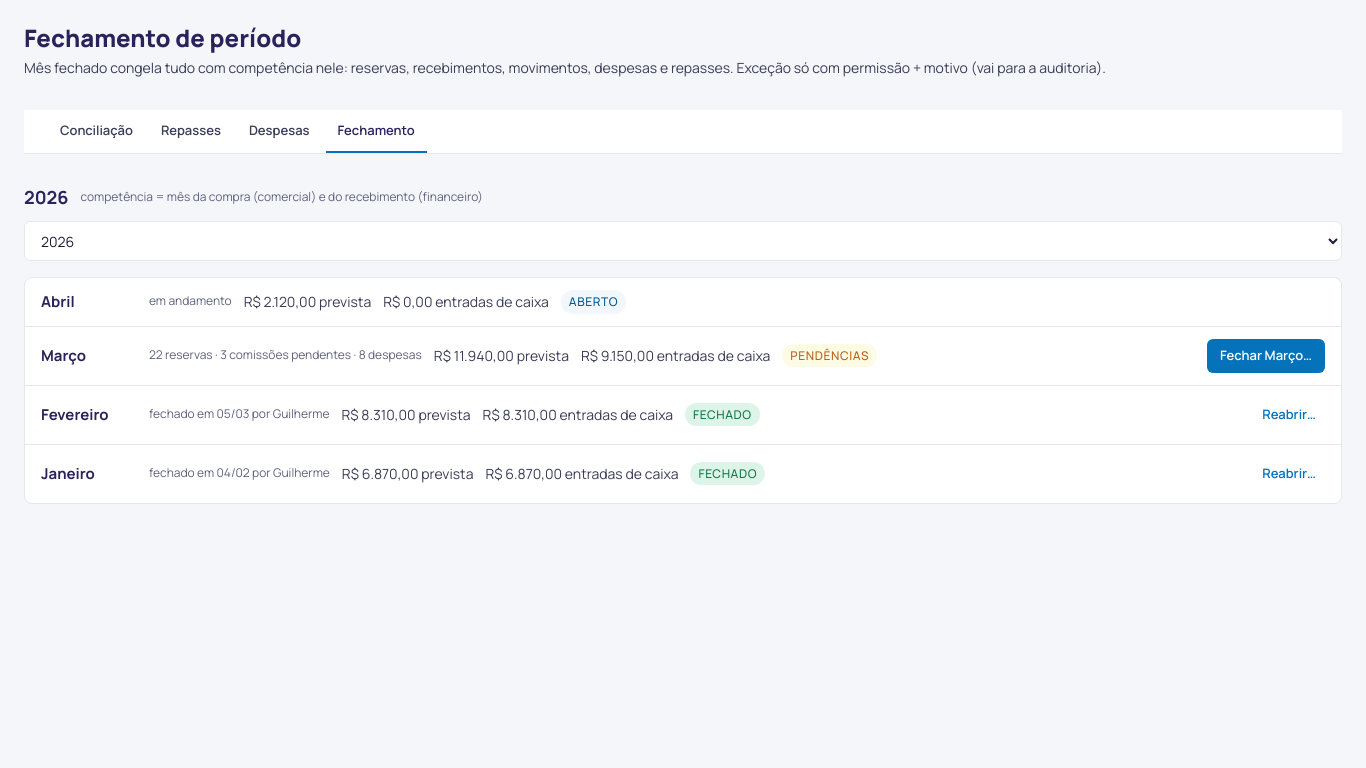
Test case: mês com pendências mostra o badge e abre o modal de fechar com as pendentes carregadas
The width and height of the screenshot is (1366, 768).
Check: the text "Março" is shown, box [41,345,86,366]
Check: the text "Pendências" is shown, box [782,344,877,368]
Click the button "Fechar Março…" at (1266, 356), box [1207,339,1325,373]
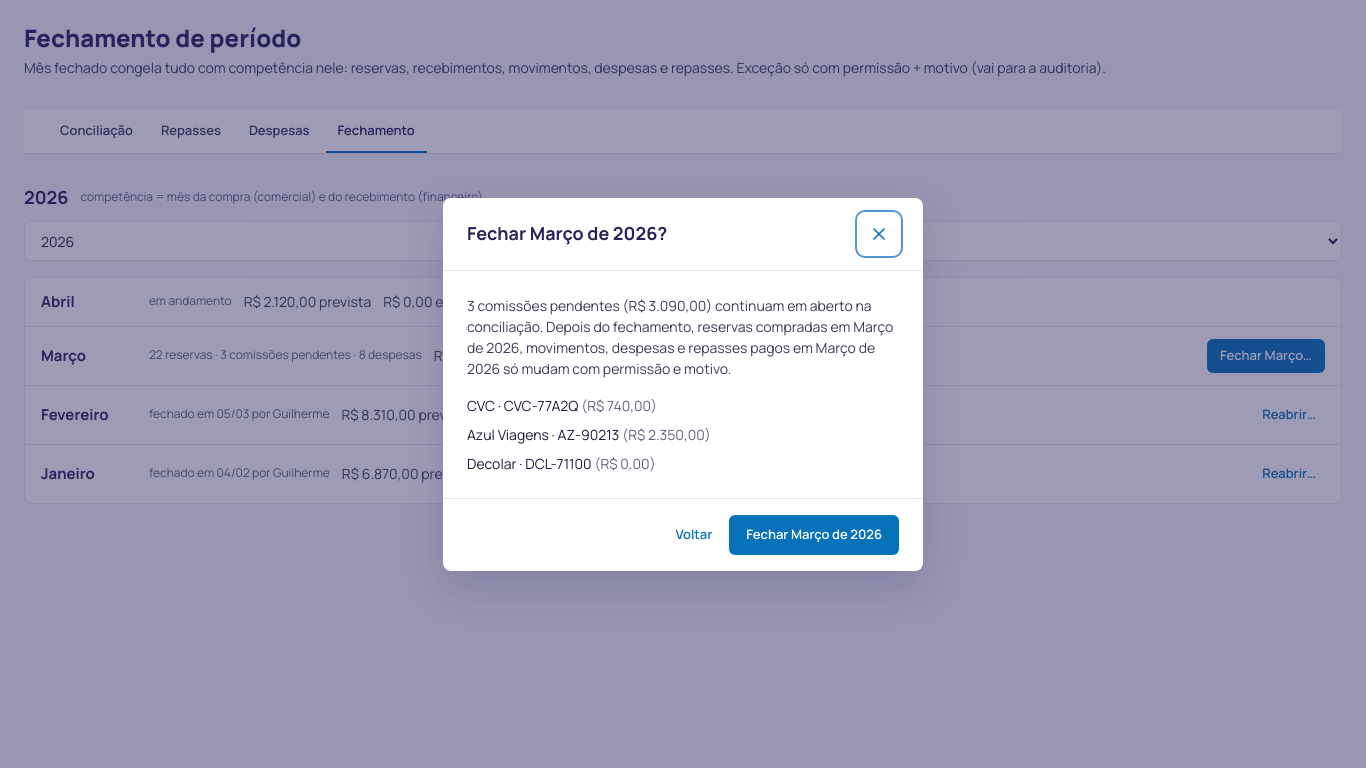
Check: the heading "Fechar Março de 2026?" is shown, box [467,222,667,245]
Check: the text "3 comissões" is shown, box [467,294,899,378]
